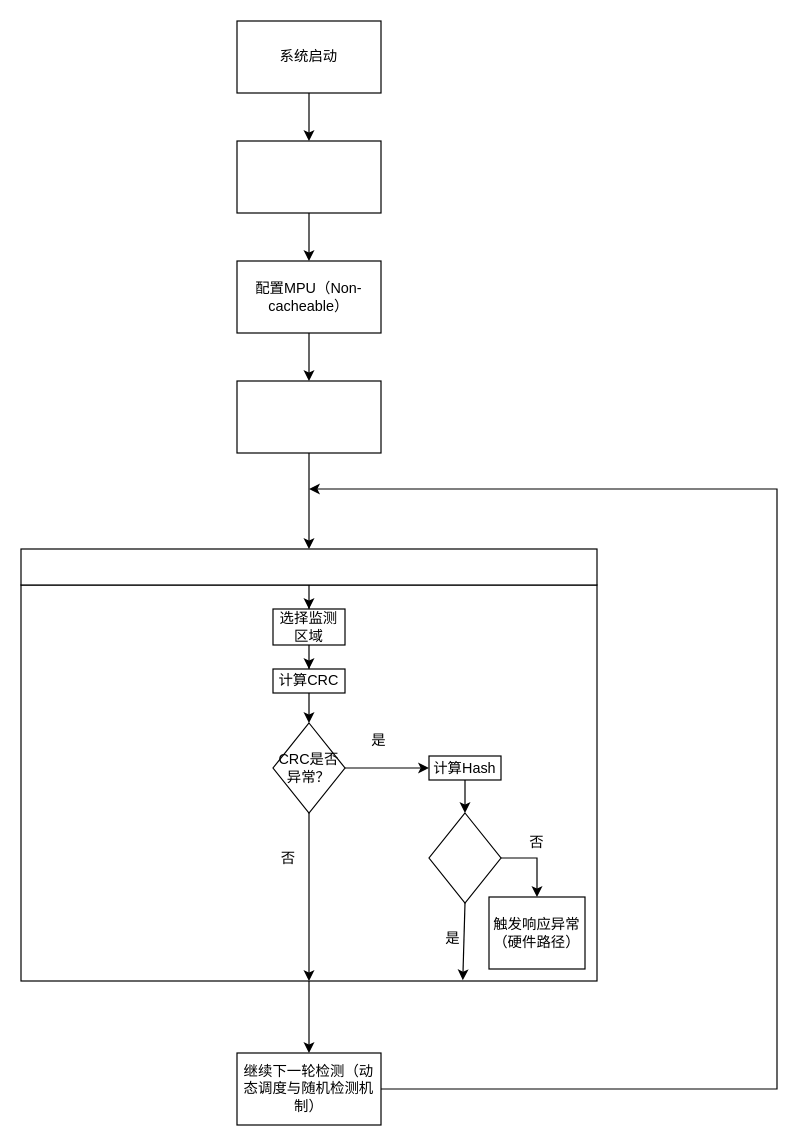
This 808x1146 diagram has some shape labels left out. The shapes that lost their labels are listed below. From the top down, each one's centre as x and y in pixels, then its label:
the point at 308,176: 初始化监测区域 （生成基准值）
the point at 308,416: HSE启动调度器
the point at 308,566: 循环执行：
the point at 464,857: 哈希值是否一致？
